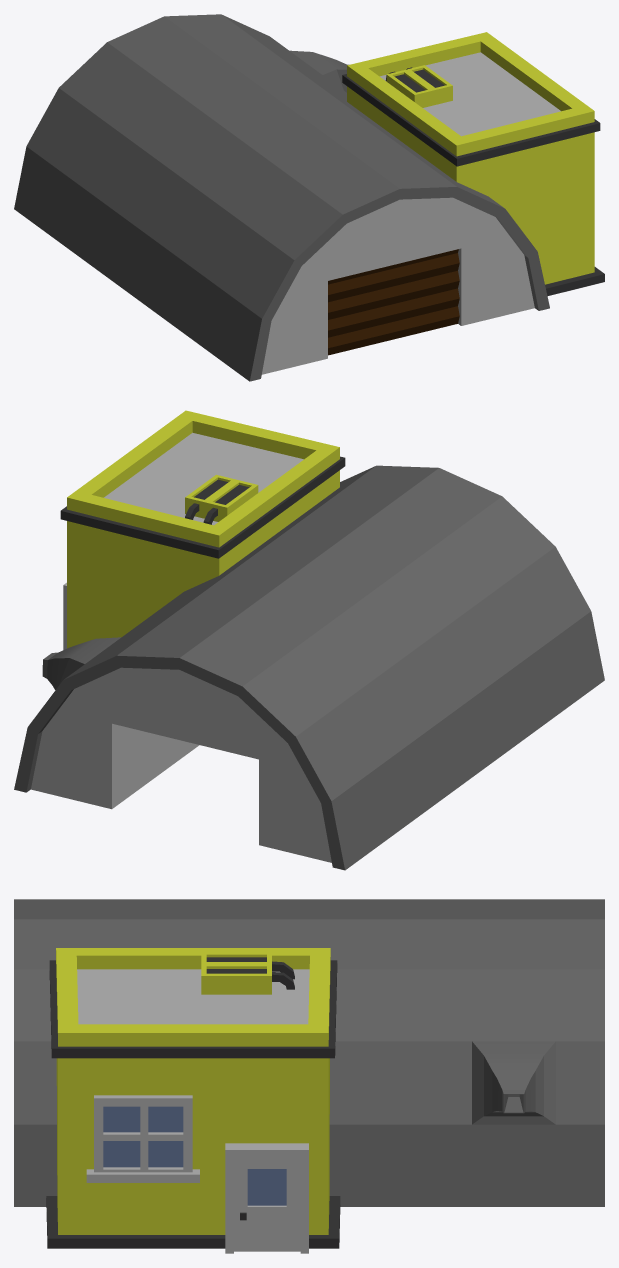
The model's file is Kuca.fbx.
3 views of the same model, one above another, from view 1: azimuth 30°, elevation 25°; view 2: azimuth 150°, elevation 25°; view 3: azimuth 270°, elevation 25° (orthographic). The views are drawn at different scales.
Visible parts, largest first — view 1: polySurface1, Building12_2, polySurface3, polySurface2; view 2: polySurface1, Building12_2, polySurface5; view 3: polySurface1, Building12_2.
Boxes of the visible parts, <box> form: polySurface1: <box>14,14,549,381</box>; Building12_2: <box>342,32,604,295</box>; polySurface3: <box>261,197,534,374</box>; polySurface2: <box>328,249,459,355</box>; polySurface1: <box>14,465,604,870</box>; Building12_2: <box>60,410,345,649</box>; polySurface5: <box>31,667,331,862</box>; polySurface1: <box>14,899,604,1206</box>; Building12_2: <box>46,948,340,1253</box>.
Size of the model in its own units: 1086 by 485 by 1185.
